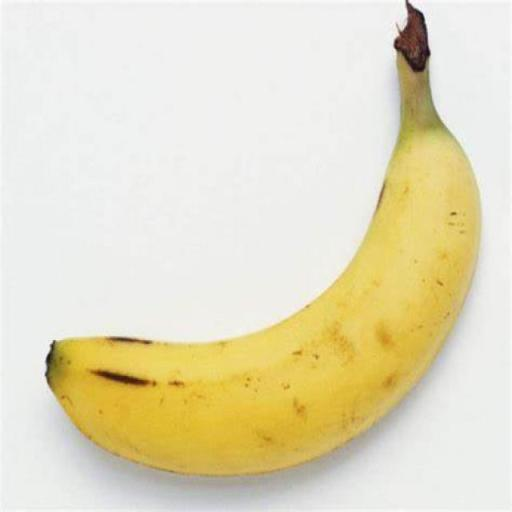fruit: (47, 4, 479, 474)
